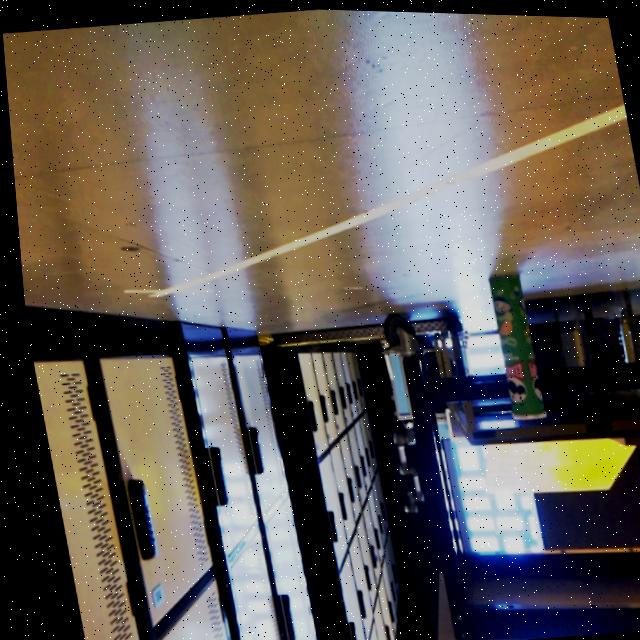greenpringles: (470, 262, 547, 428)
